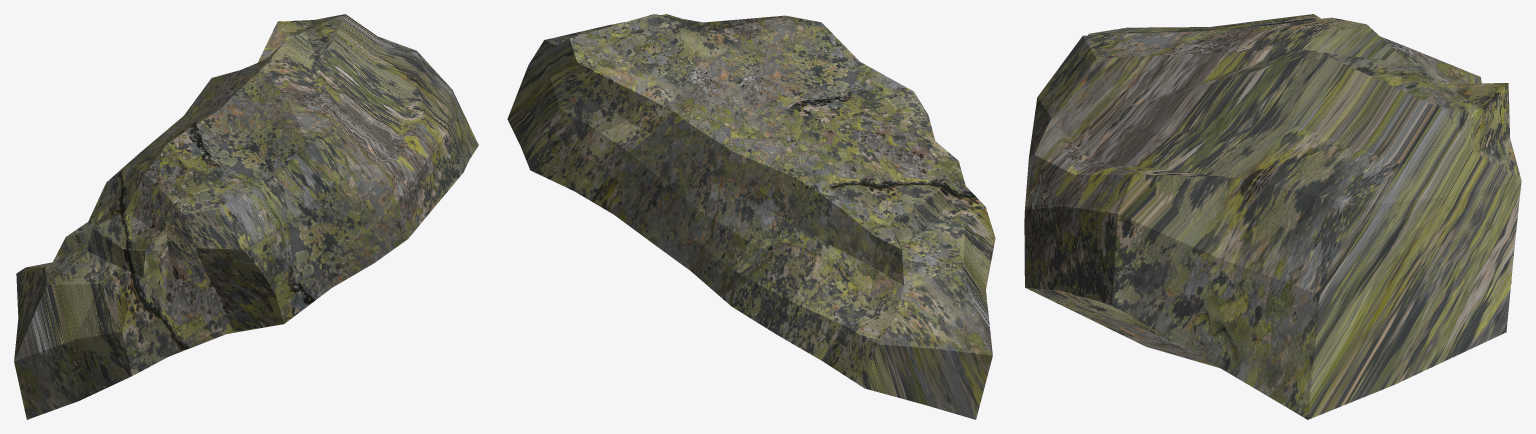
File: rock.glb
3 renders of one model, left to right at view 1: azimuth 30°, elevation 25°; view 2: azimuth 150°, elevation 25°; view 3: azimuth 270°, elevation 25°, orthographic. The views are drawn at different scales.
Visible parts, largest first — view 1: Cube; view 2: Cube; view 3: Cube.
Part boxes in pixels (x1,y1,x2,y2): Cube: (14,14,478,419); Cube: (507,14,995,419); Cube: (1024,14,1521,419).
Size of the model in its own units: 6.24 by 3.96 by 3.26.
Materials: 1 (1 with a texture image).
